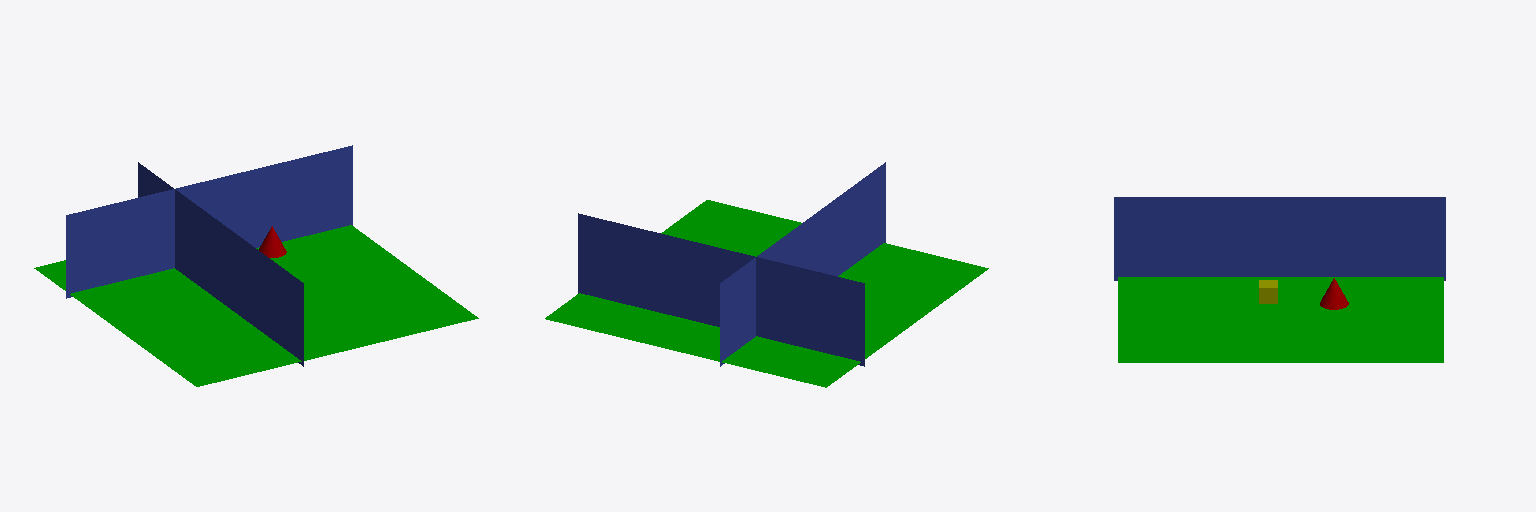
File: mirror.obj
The picture shows the model from 3 angles: view 1: azimuth 30°, elevation 25°; view 2: azimuth 150°, elevation 25°; view 3: azimuth 270°, elevation 25°; orthographic projection.
Visible parts, largest first — view 1: Plane, Plane.001, Plane.002; view 2: Plane, Plane.001, Plane.002; view 3: Plane, Plane.002, Cone.
Boxes of the visible parts, x1,y1,x2,y2 form: Plane: [34, 225, 478, 386]; Plane.001: [66, 145, 352, 298]; Plane.002: [138, 162, 303, 366]; Plane: [545, 200, 988, 387]; Plane.001: [578, 213, 864, 366]; Plane.002: [720, 162, 885, 366]; Plane: [1118, 277, 1443, 362]; Plane.002: [1114, 197, 1445, 280]; Cone: [1320, 278, 1348, 309].
Bounding box in the file's own units: 7.2 × 2 × 7.2.